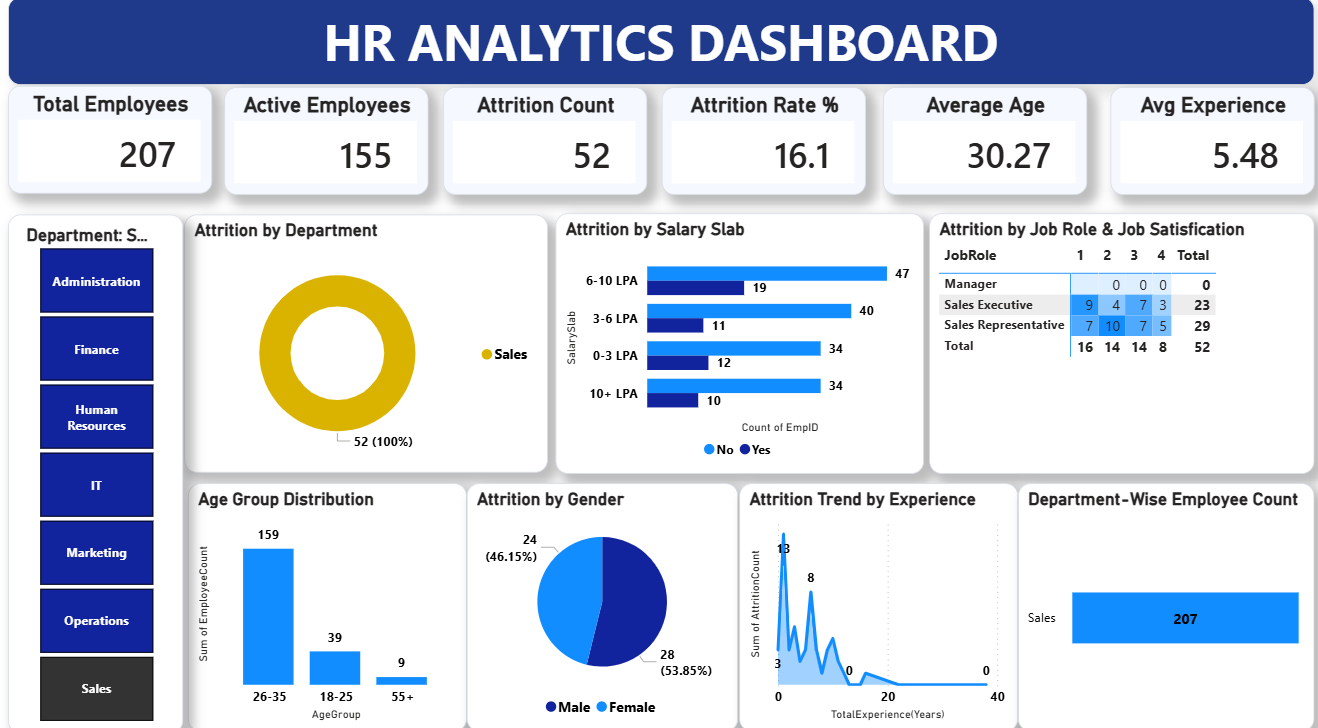

What the dashboard file says about the page in this screenshot:
{"tool":"powerbi","page":{"name":"Page 1","canvas":[1280,720],"ordinal":0},"visuals":[{"type":"textbox","box":[10,0,1259,85],"z":0},{"type":"cardVisual","title":"Total Employees","fields":{"Data":["CountNonNull(HR_Analytics-4.EmpID)"]},"box":[9.8,85.6,196.9,103.9],"z":1000},{"type":"cardVisual","title":"Active Employees","fields":{"Data":["CountNonNull(HR_Analytics-4.EmployeeCount)"]},"box":[217.7,86.8,196.9,103.9],"z":2000},{"type":"cardVisual","title":"Attrition Count","fields":{"Data":["Sum(HR_Analytics-4.AttritionCount)"]},"box":[429.2,86.8,196.9,103.9],"z":3000},{"type":"cardVisual","title":"Attrition Rate %","fields":{"Data":["HR_Analytics-4.Attrition Rate %"]},"box":[639.5,86.8,196.9,103.9],"z":4000},{"type":"cardVisual","title":"Average Age","fields":{"Data":["Avg(HR_Analytics-4.Age)"]},"box":[853.5,86.8,196.9,103.9],"z":5000},{"type":"cardVisual","title":"Avg Experience","fields":{"Data":["Avg(HR_Analytics-4.YearsatCompany)"]},"box":[1072.4,86.8,196.9,103.9],"z":6000},{"type":"donutChart","title":"Attrition by Department","fields":{"Category":["HR_Analytics-4.Department"],"Y":["Sum(HR_Analytics-4.AttritionCount)"]},"box":[179,210,350,249],"z":7000},{"type":"clusteredBarChart","title":"Attrition by Salary Slab","fields":{"Category":["HR_Analytics-4.SalarySlab"],"Y":["CountNonNull(HR_Analytics-4.EmpID)"],"Series":["HR_Analytics-4.Attrition"]},"box":[537,209,355,251],"z":8000},{"type":"pivotTable","title":"Attrition by Job Role & Job Satisfication","fields":{"Rows":["HR_Analytics-4.JobRole"],"Values":["Sum(HR_Analytics-4.AttritionCount)"],"Columns":["HR_Analytics-4.JobSatisfaction"]},"box":[898,209,371,251],"z":9000},{"type":"columnChart","title":"Age Group Distribution","fields":{"Category":["HR_Analytics-4.AgeGroup"],"Y":["Sum(HR_Analytics-4.EmployeeCount)"]},"box":[183.1,469,269,239.4],"z":10000},{"type":"pieChart","title":"Attrition by Gender","fields":{"Category":["HR_Analytics-4.Gender"],"Y":["Sum(HR_Analytics-4.AttritionCount)"]},"box":[452.1,469,262,239.4],"z":11000},{"type":"areaChart","title":"Attrition Trend by Experience","fields":{"Category":["HR_Analytics-4.TotalExperience(Years)"],"Y":["Sum(HR_Analytics-4.AttritionCount)"]},"box":[714.1,469,269,239.4],"z":12000},{"type":"funnel","title":"Department-Wise Employee Count","fields":{"Category":["HR_Analytics-4.Department"],"Y":["CountNonNull(HR_Analytics-4.EmpID)"]},"box":[983.1,469,285.9,239.4],"z":13000},{"type":"slicer","fields":{"Values":["HR_Analytics-4.Department"]},"box":[9.6,209.6,168.7,500],"z":14000}]}

Visuals, with their boxes in screenshot pixels (x1, y1, x2, y2), scaled from the page's 1280x720 canvas onto the 1318x728 screenshot:
textbox: region(10, 0, 1307, 86)
"Total Employees" cardVisual: region(10, 87, 213, 192)
"Active Employees" cardVisual: region(224, 88, 427, 193)
"Attrition Count" cardVisual: region(442, 88, 645, 193)
"Attrition Rate %" cardVisual: region(658, 88, 861, 193)
"Average Age" cardVisual: region(879, 88, 1082, 193)
"Avg Experience" cardVisual: region(1104, 88, 1307, 193)
"Attrition by Department" donutChart: region(184, 212, 545, 464)
"Attrition by Salary Slab" clusteredBarChart: region(553, 211, 918, 465)
"Attrition by Job Role & Job Satisfication" pivotTable: region(925, 211, 1307, 465)
"Age Group Distribution" columnChart: region(189, 474, 466, 716)
"Attrition by Gender" pieChart: region(466, 474, 735, 716)
"Attrition Trend by Experience" areaChart: region(735, 474, 1012, 716)
"Department-Wise Employee Count" funnel: region(1012, 474, 1307, 716)
slicer - HR_Analytics-4.Department: region(10, 212, 184, 717)
